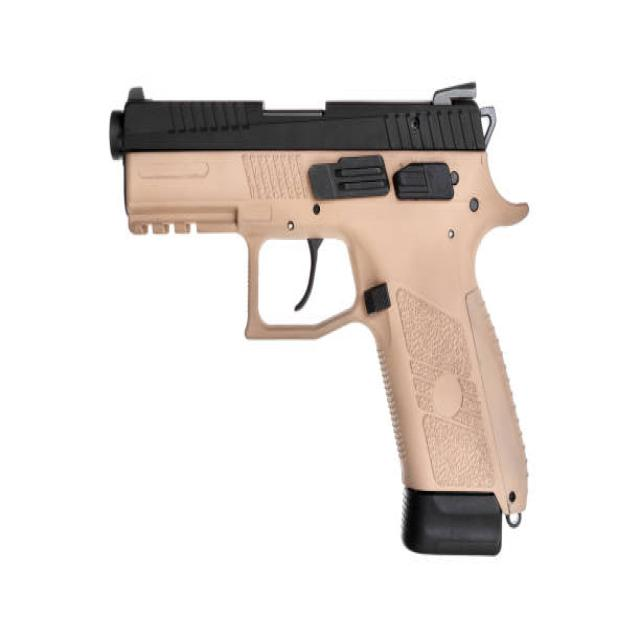pistol: (108, 81, 537, 563)
